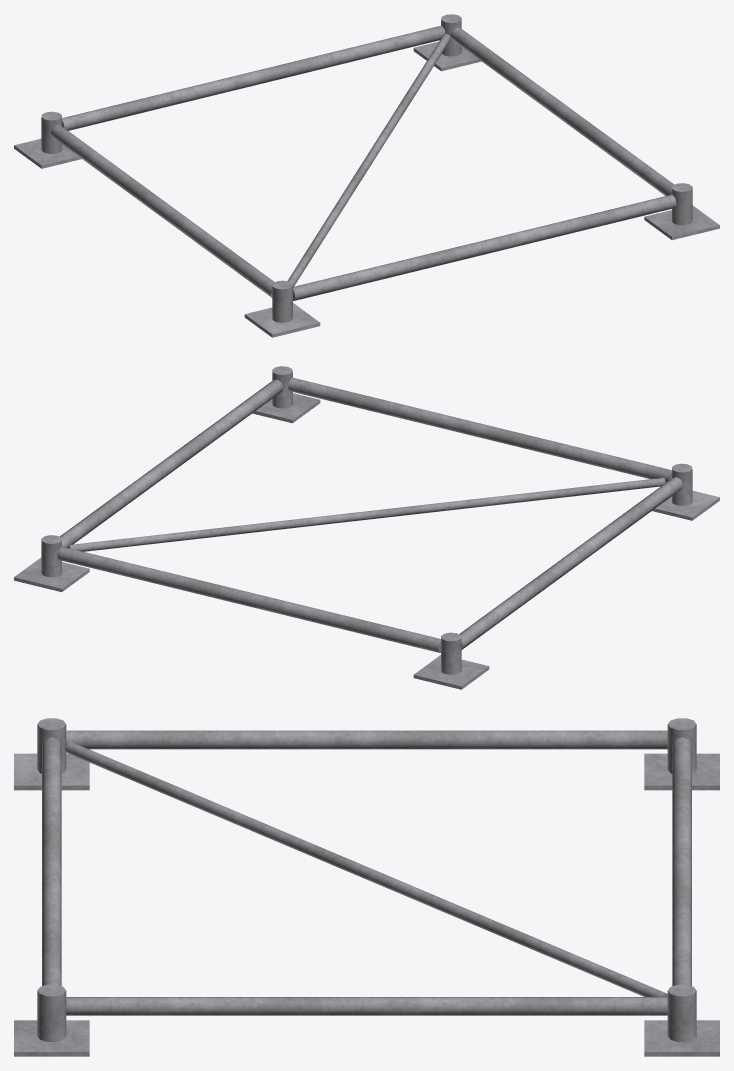
Rendered from ramp_truss_cap.glb.
3 views of the same model, one above another, from view 1: azimuth 30°, elevation 25°; view 2: azimuth 150°, elevation 25°; view 3: azimuth 270°, elevation 25° (orthographic). The views are drawn at different scales.
Visible parts, largest first — view 1: RampTruss_Cap; view 2: RampTruss_Cap; view 3: RampTruss_Cap.
Boxes of the visible parts, x1=… form: RampTruss_Cap: x1=14, y1=14, x2=719, y2=337; RampTruss_Cap: x1=14, y1=366, x2=719, y2=689; RampTruss_Cap: x1=14, y1=718, x2=719, y2=1056.
Bounding box in the file's own units: 2.8 × 0.22 × 2.8.
1 material, 1 textured.
